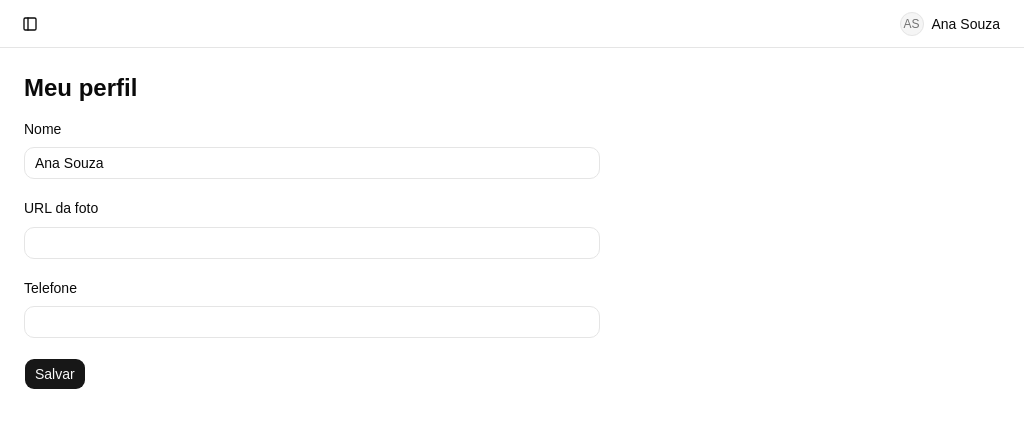
Test: Perfil (História 6, FR-005) › mostra o erro de campo devolvido pela API (400 VALIDACAO_INVALIDA)
Type "11987654321" into the field labelled "Telefone" at (312, 322), box [24,306,600,338]
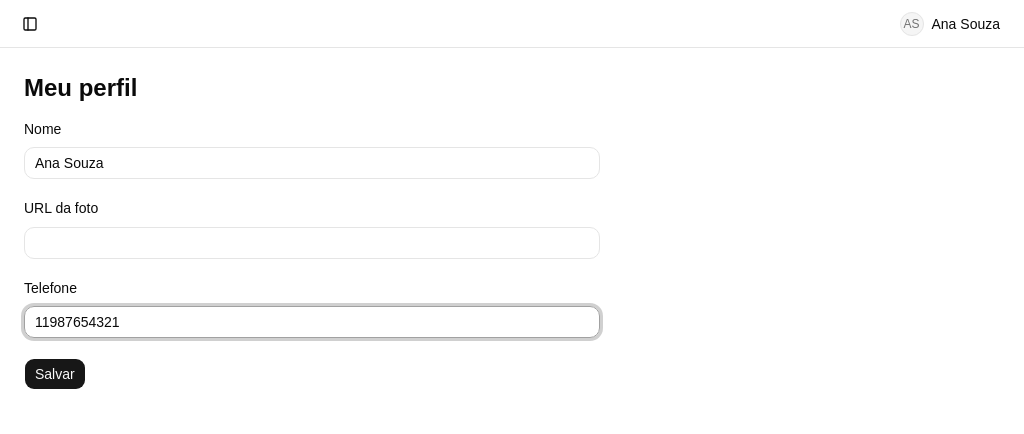
Click the button "Salvar" at (55, 374), box [24,358,86,390]
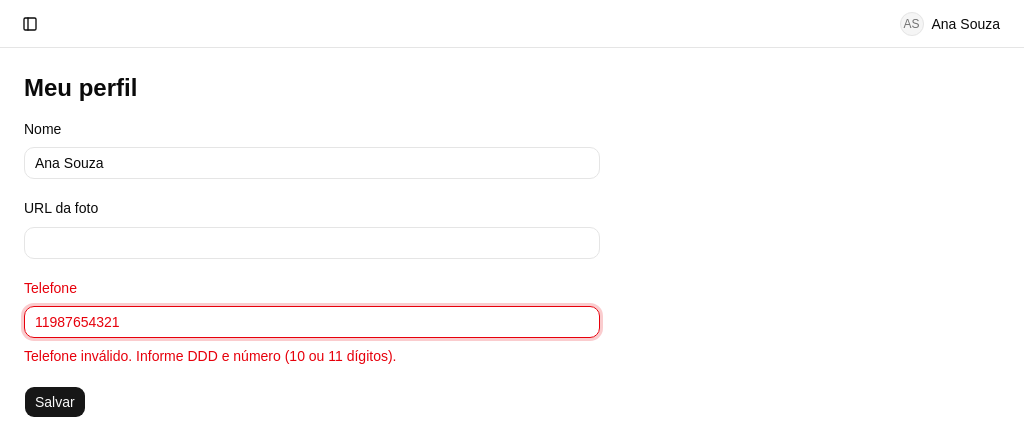
Check: the text "Telefone inválido. Informe DDD e número (10 ou 11 dígitos)." is shown, box [24,348,396,364]
